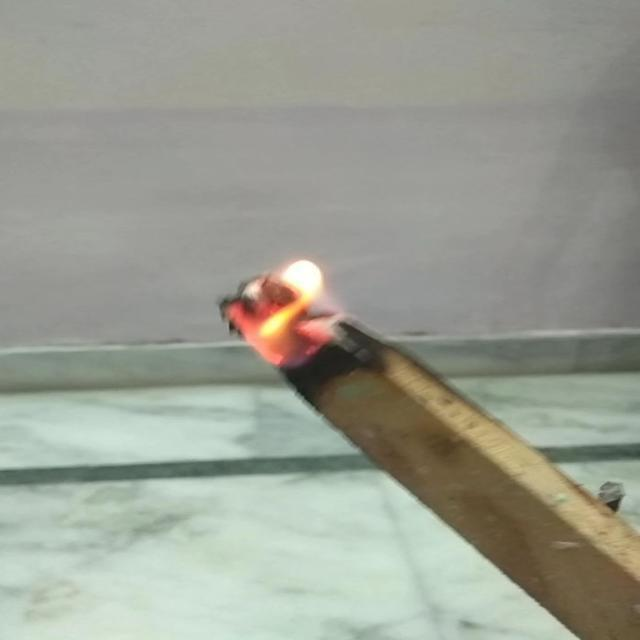smoke: (220, 245, 351, 378)
